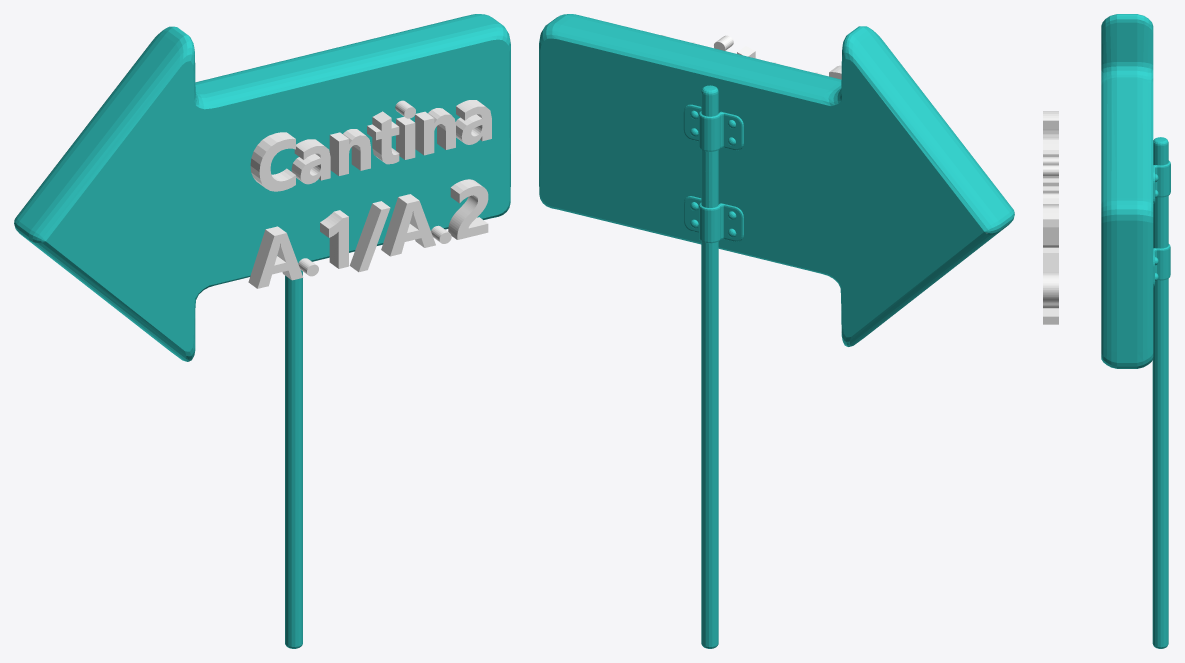
Rendered from SETA CANTINA AA12.glb.
The picture shows the model from 3 angles, left to right: view 1: azimuth 30°, elevation 25°; view 2: azimuth 150°, elevation 25°; view 3: azimuth 270°, elevation 25°; orthographic projection. The views are drawn at different scales.
Bounding box in the file's own units: 0.4593 × 0.6064 × 0.122.
Materials: 3 (3 with a texture image).
